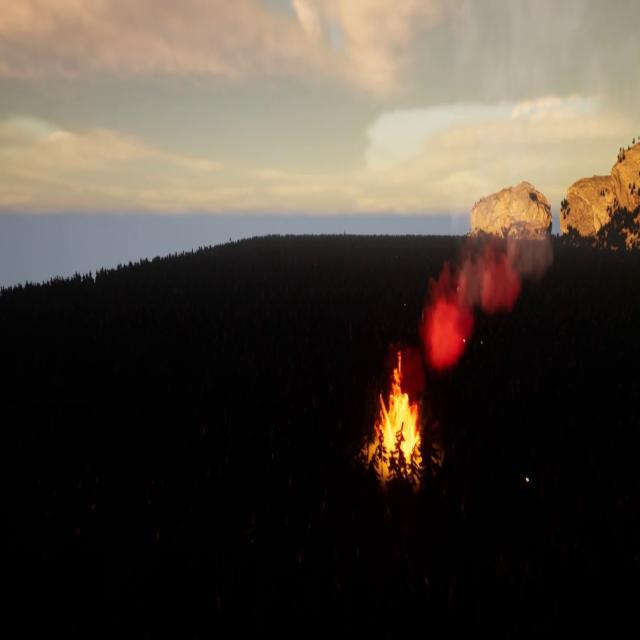fire: (367, 351, 423, 461)
smoke: (401, 217, 556, 385)
